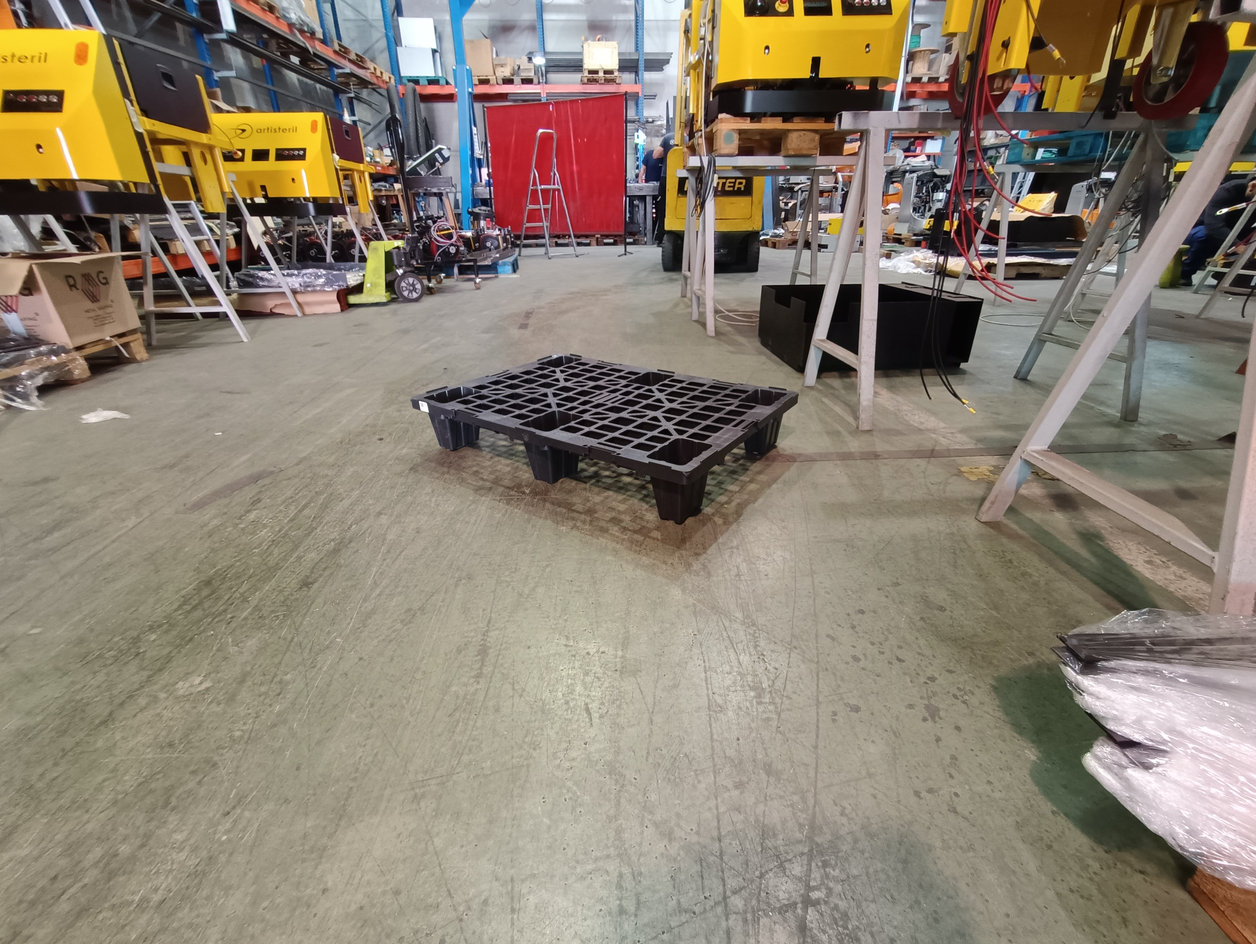block: (651, 453, 712, 525), (751, 390, 796, 462), (427, 408, 482, 462), (517, 429, 571, 484)
front: (419, 401, 695, 530)
hole pallet: (563, 444, 656, 524), (458, 410, 530, 481)
